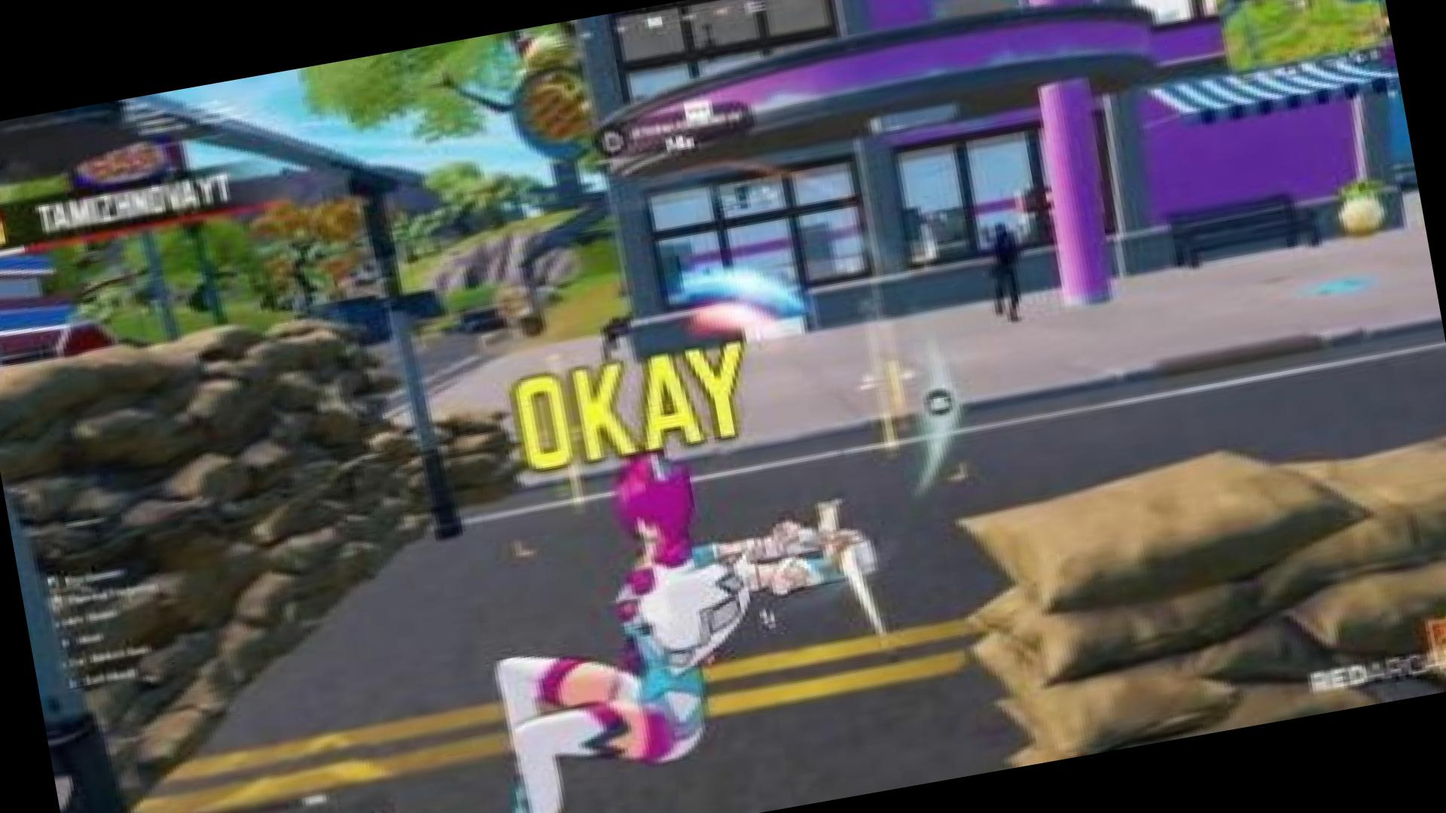player: (474, 468, 845, 784), (980, 223, 1038, 327)
